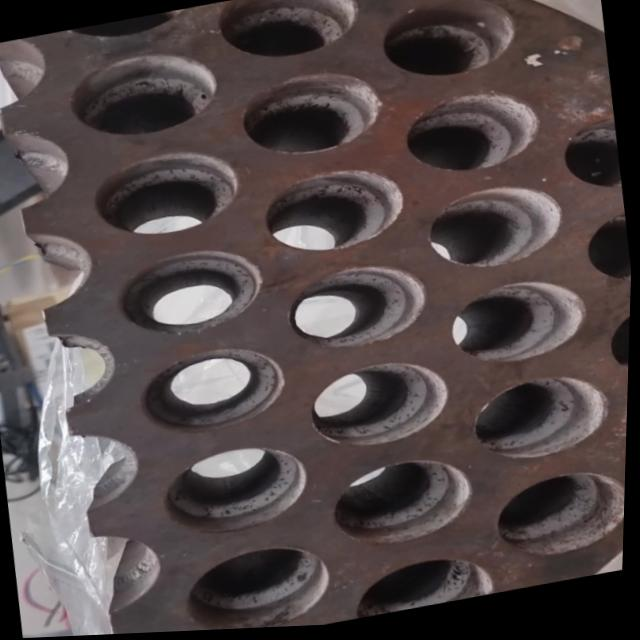Hole: (63, 42, 223, 148), (112, 240, 271, 346), (159, 438, 317, 544), (89, 141, 247, 247), (327, 452, 482, 558), (136, 339, 293, 442), (236, 63, 389, 167), (306, 355, 458, 459), (283, 257, 435, 361), (260, 162, 411, 264), (467, 371, 618, 473), (447, 274, 595, 376), (399, 85, 546, 186), (423, 180, 569, 281), (184, 539, 340, 633), (493, 469, 629, 569), (376, 0, 521, 91), (353, 552, 500, 623), (213, 0, 363, 69), (53, 9, 193, 49), (558, 125, 625, 204), (581, 215, 634, 293), (603, 311, 632, 392)
